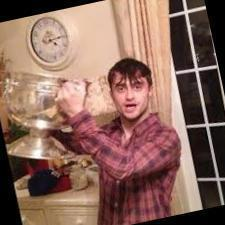Drunk: (110, 72, 149, 118)
